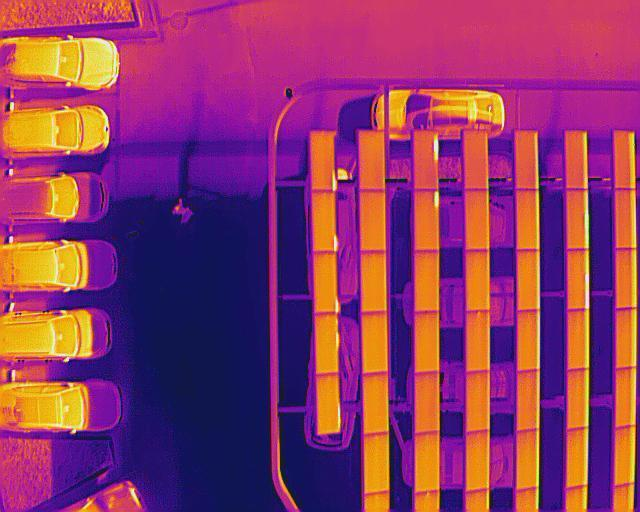No-Anomaly: (363, 433, 389, 495), (415, 431, 440, 495), (415, 372, 440, 436), (363, 372, 388, 436), (363, 311, 388, 374), (361, 190, 386, 252), (362, 250, 387, 312), (414, 251, 439, 313), (414, 311, 439, 373), (465, 372, 490, 433), (360, 131, 385, 191), (465, 189, 489, 251), (466, 431, 490, 492), (516, 369, 540, 430), (466, 311, 490, 372), (466, 252, 490, 312), (517, 250, 540, 312), (516, 430, 539, 491), (566, 369, 589, 430), (516, 310, 539, 371), (615, 308, 637, 369), (614, 426, 636, 487), (516, 190, 538, 250), (566, 429, 588, 489), (465, 131, 487, 190), (615, 248, 636, 309), (516, 131, 538, 189), (615, 367, 636, 427), (568, 310, 589, 370), (615, 190, 636, 248), (615, 130, 635, 190), (566, 132, 587, 189)
Unclassified: (313, 190, 337, 253), (314, 253, 338, 314), (415, 190, 439, 251), (315, 313, 339, 374), (312, 131, 336, 191), (317, 374, 341, 434), (566, 250, 589, 312), (414, 132, 438, 189), (567, 189, 589, 250)
